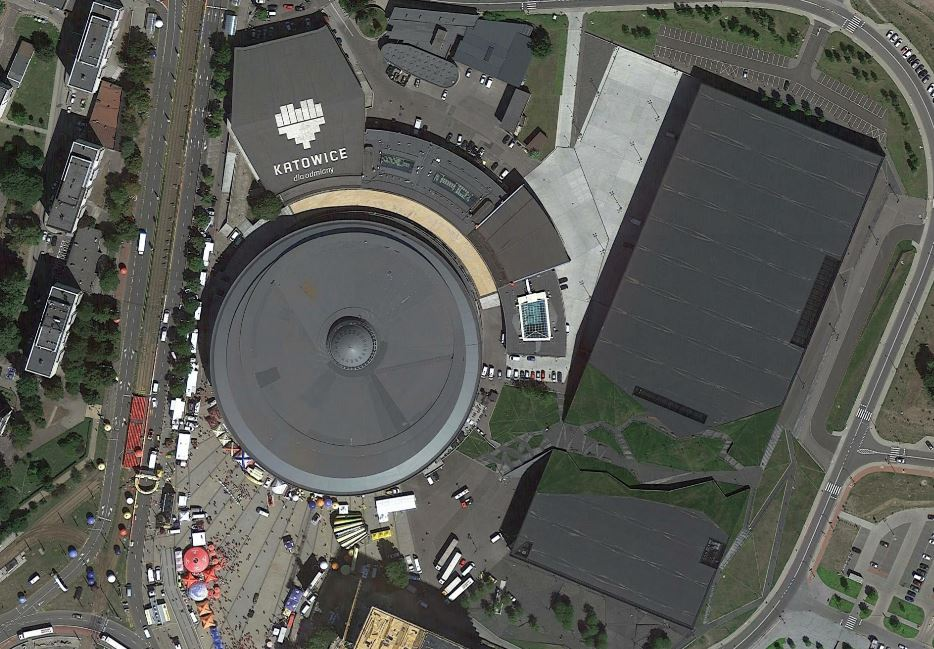shopping_center: (505, 77, 889, 632), (194, 4, 550, 509)
